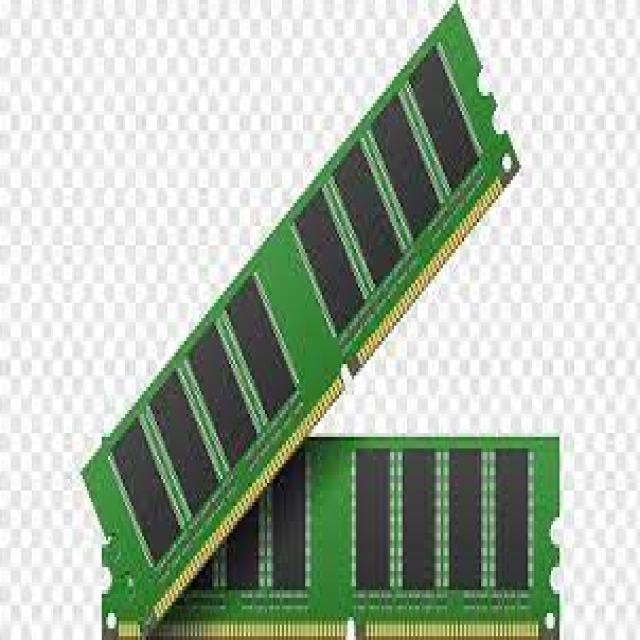Ram: (109, 104, 564, 621)
